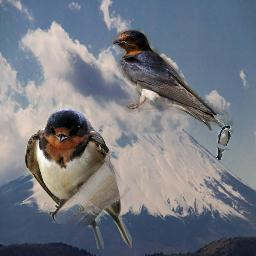Swallow: (25, 108, 132, 249), (112, 29, 236, 136), (216, 125, 231, 160)
